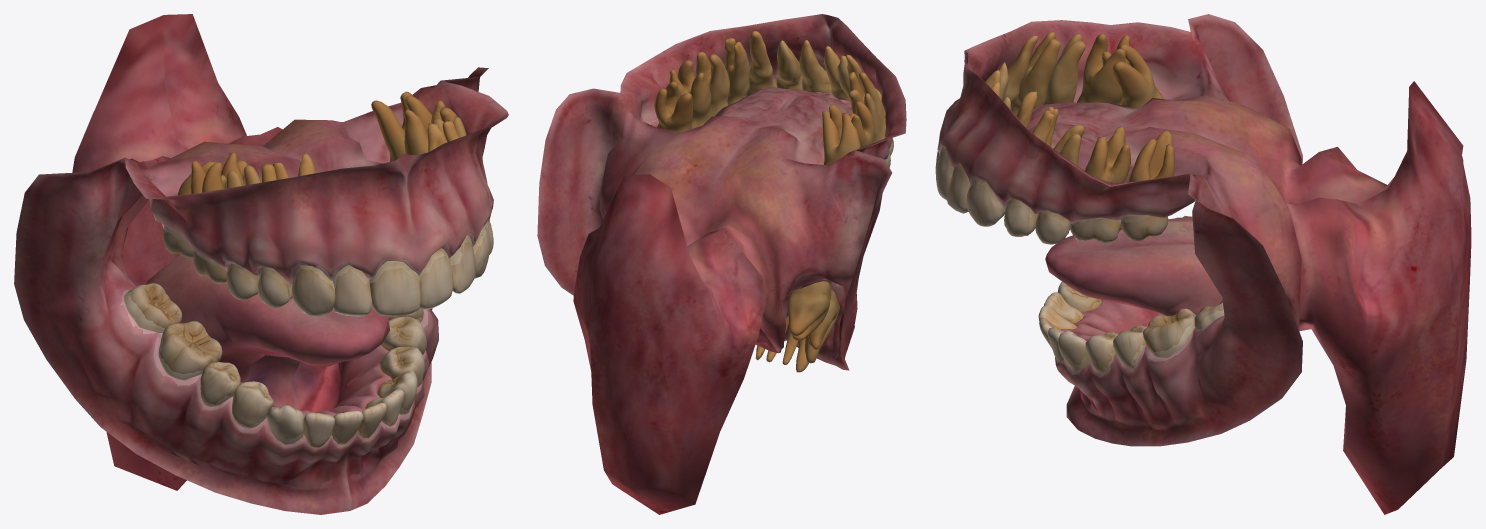
3 views of the same model, side by side, from view 1: azimuth 30°, elevation 25°; view 2: azimuth 150°, elevation 25°; view 3: azimuth 270°, elevation 25° (orthographic). The views are drawn at different scales.
Parts seen in each view (by area): view 1: mouth_0, teeth_1, wet_2; view 2: mouth_0, teeth_1; view 3: mouth_0, teeth_1, wet_2.
Part boxes in pixels (<box>): mouth_0: <box>14,14,508,514</box>; teeth_1: <box>124,91,493,447</box>; wet_2: <box>121,217,489,448</box>; mouth_0: <box>537,14,906,514</box>; teeth_1: <box>654,31,893,372</box>; mouth_0: <box>937,14,1471,514</box>; teeth_1: <box>935,32,1224,372</box>; wet_2: <box>938,91,1223,377</box>.
Bounding box in the file's own units: 0.2433 × 0.2663 × 0.2801.
Materials: 3 (2 with a texture image).
